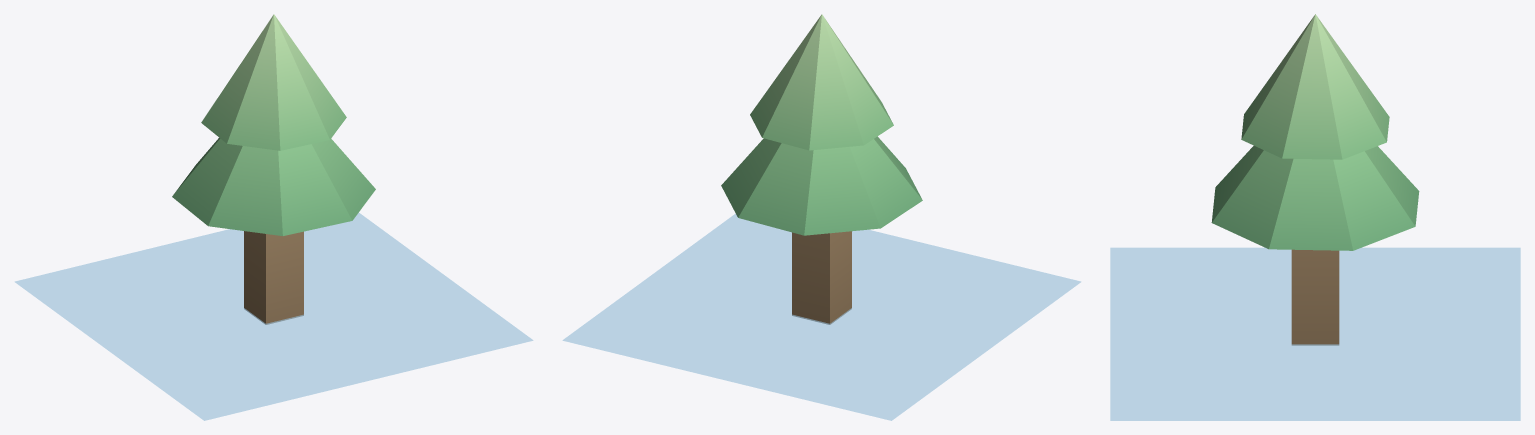
The model's file is pohon.glb.
The picture shows the model from 3 angles, left to right: view 1: azimuth 30°, elevation 25°; view 2: azimuth 150°, elevation 25°; view 3: azimuth 270°, elevation 25°; orthographic projection. The views are drawn at different scales.
Parts seen in each view (by area): view 1: kolam, tajuk, batang; view 2: kolam, tajuk, batang; view 3: kolam, tajuk, batang.
Boxes of the visible parts, <box> form: kolam: <box>15,213,533,420</box>; tajuk: <box>172,14,375,235</box>; batang: <box>244,231,303,324</box>; kolam: <box>562,214,1080,420</box>; tajuk: <box>721,14,922,235</box>; batang: <box>792,231,851,324</box>; kolam: <box>1110,247,1520,420</box>; tajuk: <box>1211,14,1419,250</box>; batang: <box>1291,249,1339,345</box>.
Bounding box in the file's own units: 3.12 × 2.7 × 3.12.
